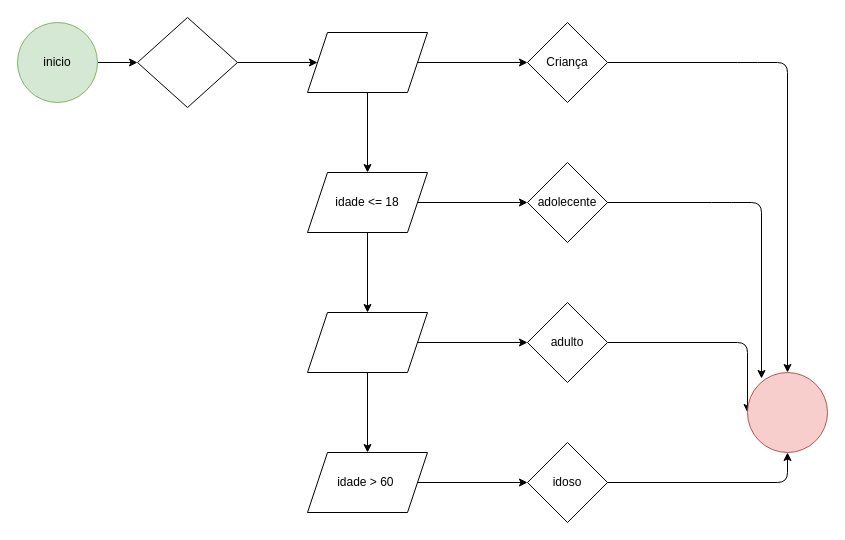
The diagram is 845 pixels wide and 540 high, and some of its shapes have lost their labels. Here are the shapes that lost their labels. From the top down, the centre of each, then its label:
the point at 187,62: digite a Idade
the point at 367,62: idade <= 12
the point at 367,342: idade <= 60
the point at 787,412: fim
